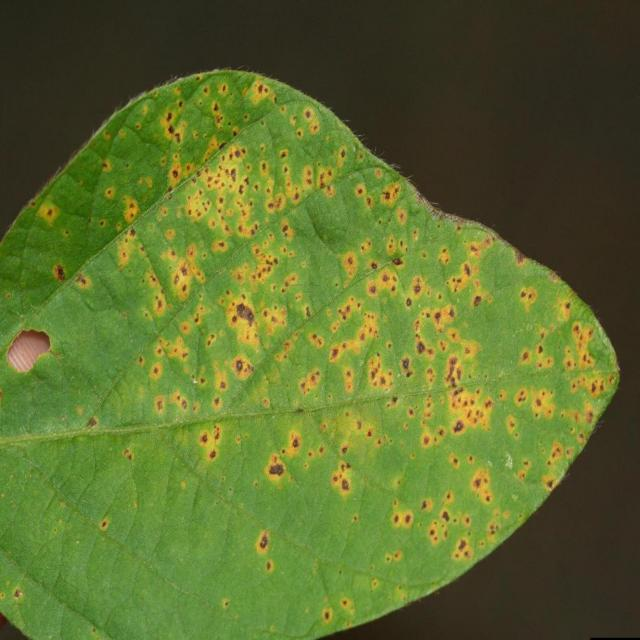Septoria: (108, 112, 592, 565)
